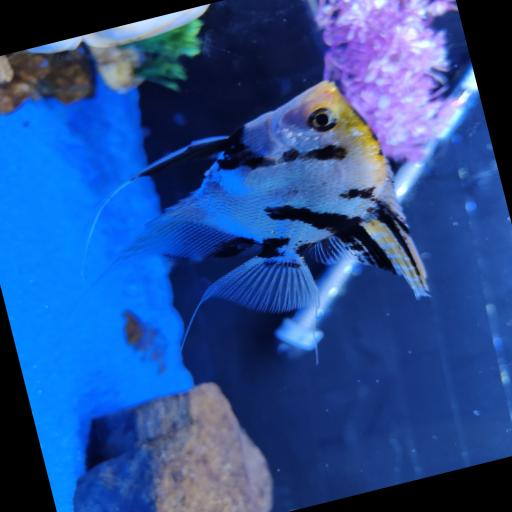Fish: (116, 81, 427, 311)
